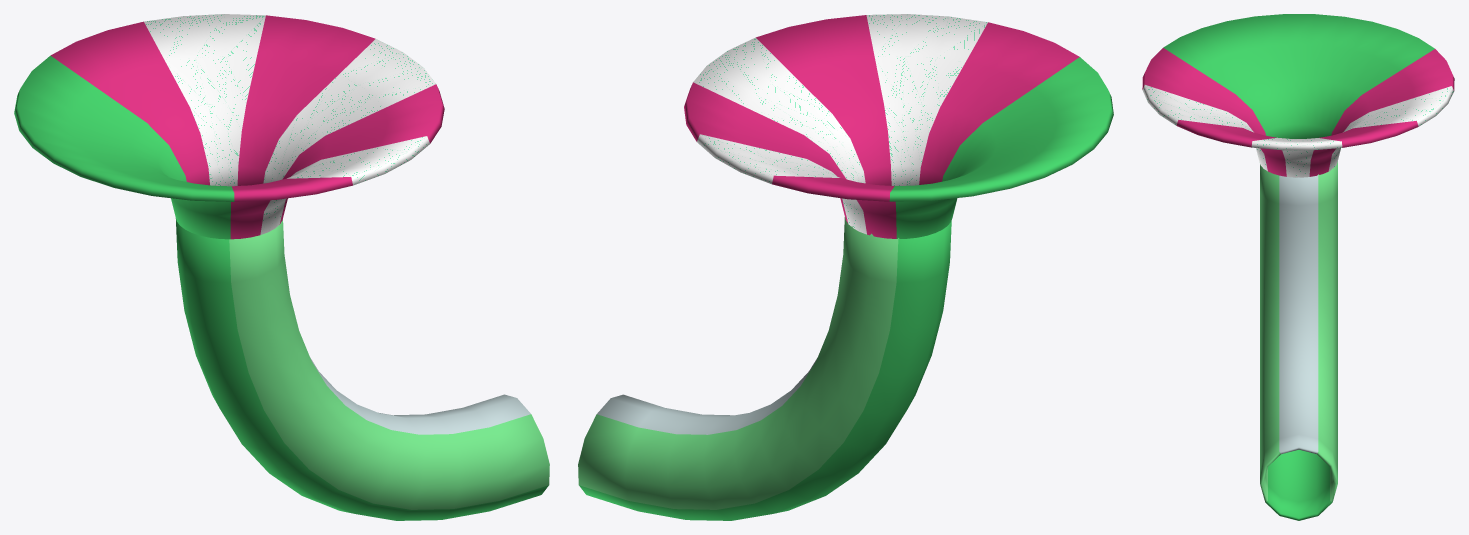
The model's file is Turnip_Pipe1.fbx.
3 views of the same model, side by side, from view 1: azimuth 30°, elevation 25°; view 2: azimuth 150°, elevation 25°; view 3: azimuth 270°, elevation 25° (orthographic). The views are drawn at different scales.
Visible parts, largest first — view 1: Turnip, ElbowPipe1; view 2: Turnip, ElbowPipe1; view 3: Turnip, ElbowPipe1.
Part boxes in pixels (<box>): Turnip: <box>14,14,444,239</box>; ElbowPipe1: <box>175,218,549,520</box>; Turnip: <box>684,14,1113,238</box>; ElbowPipe1: <box>578,217,951,520</box>; Turnip: <box>1142,14,1454,177</box>; ElbowPipe1: <box>1260,161,1337,520</box>.
Size of what is drawn, in the model's own units: 126 by 96.08 by 115.
